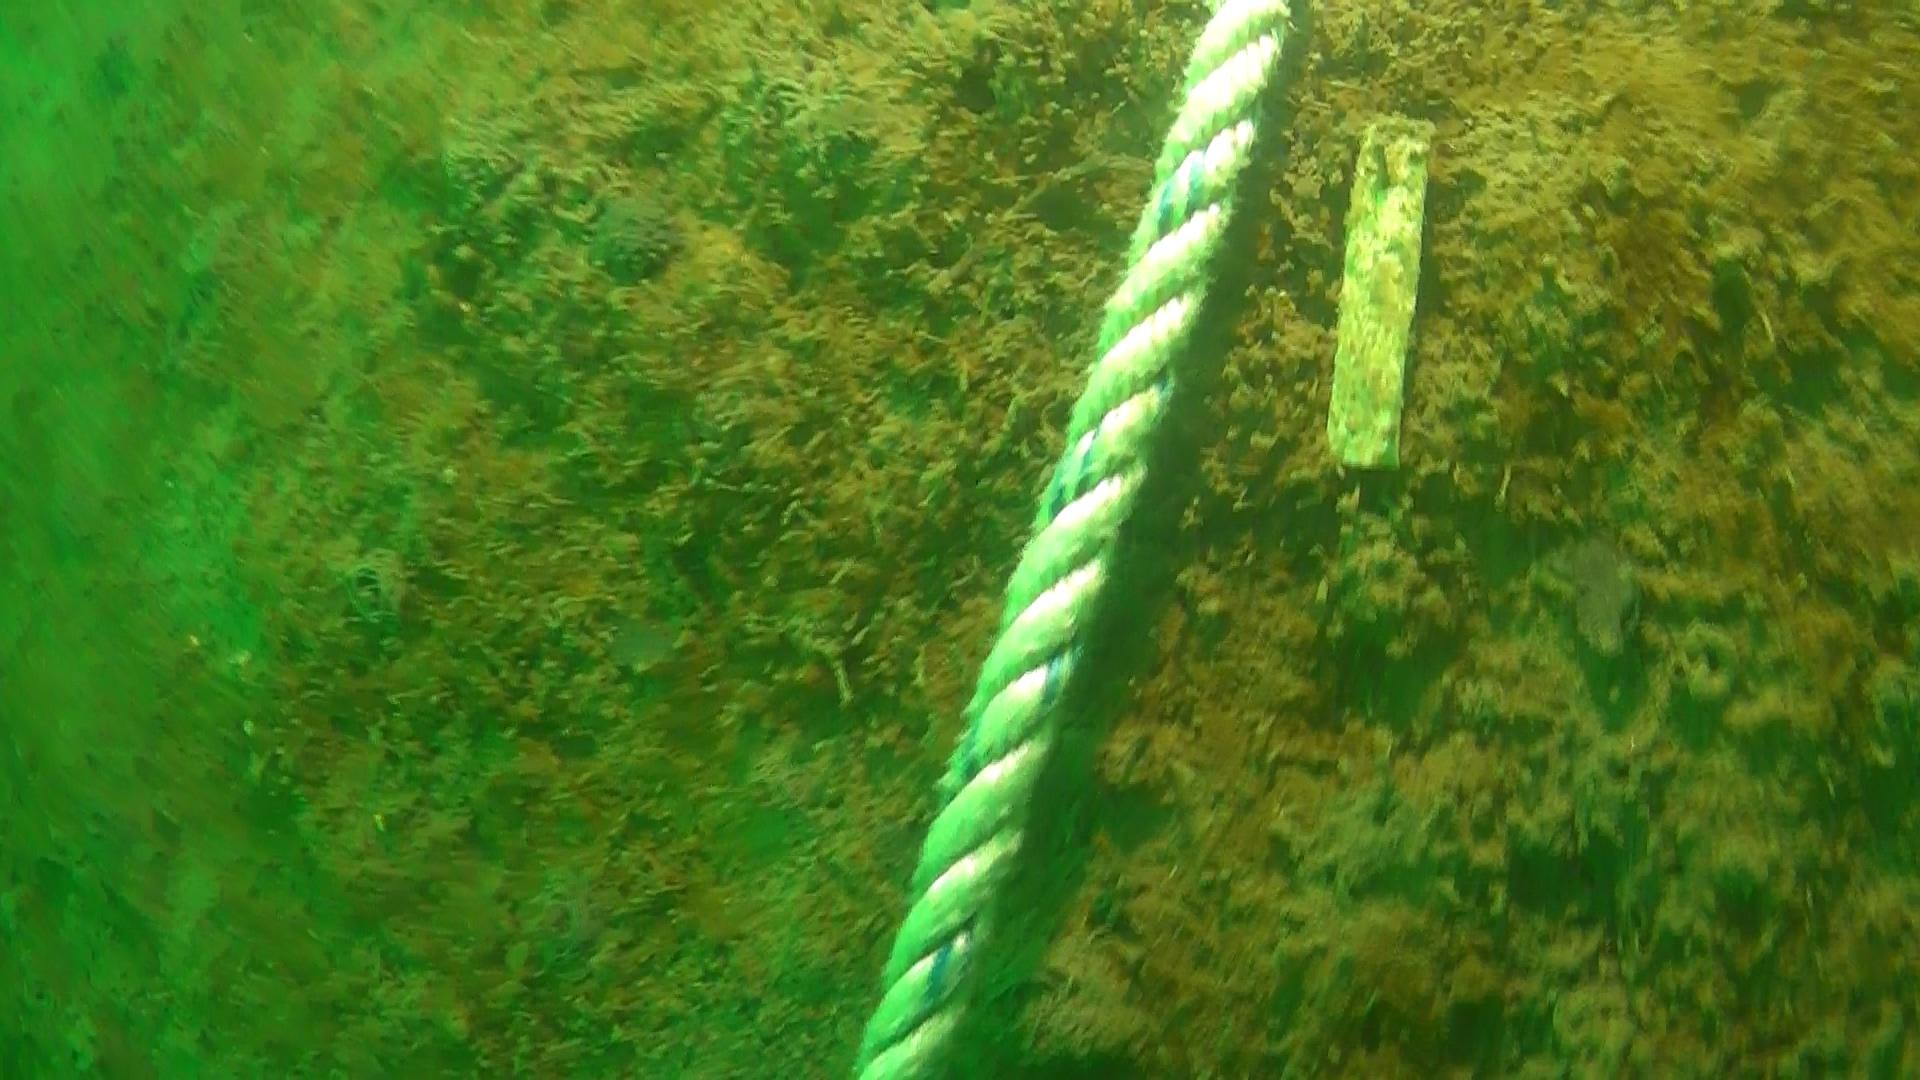rope: (852, 0, 1290, 1080)
